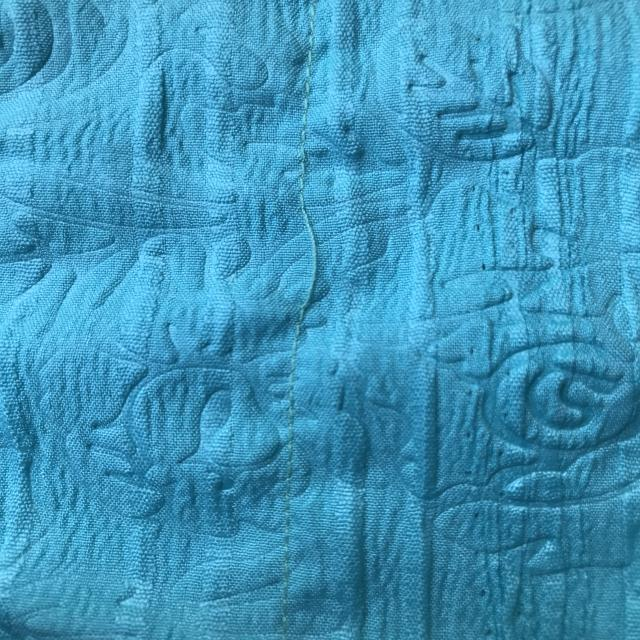skip: (282, 185, 326, 358)
